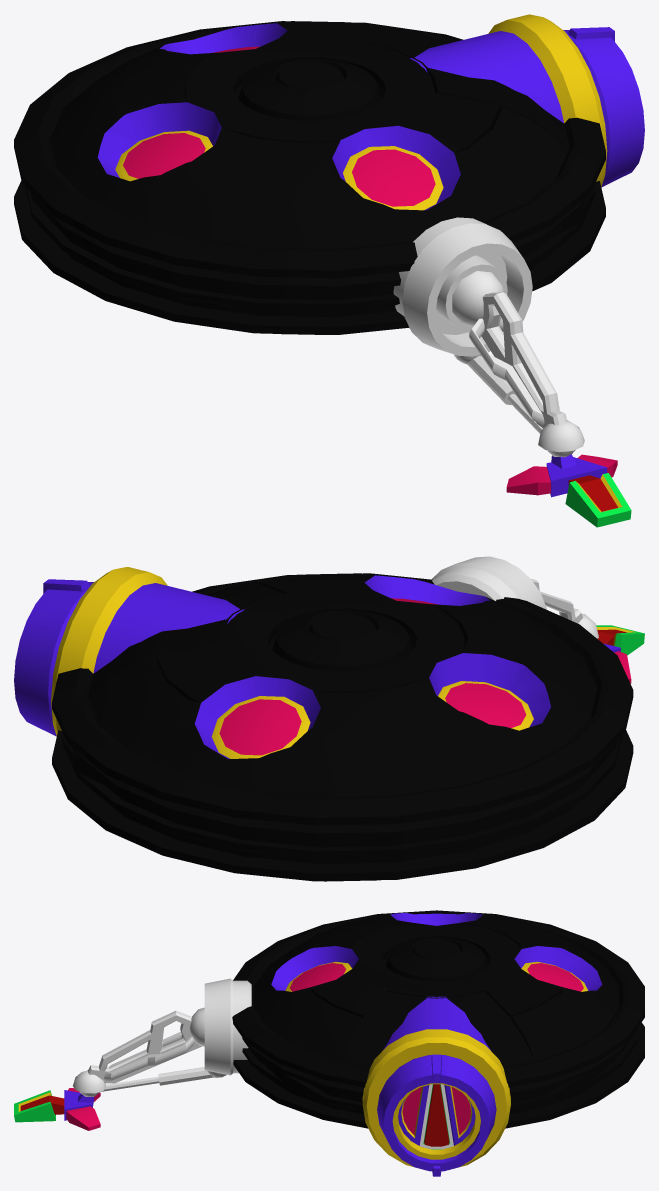
Rendered from Farm_Ship.FBX.
3 renders of one model, top to bottom at view 1: azimuth 30°, elevation 25°; view 2: azimuth 150°, elevation 25°; view 3: azimuth 270°, elevation 25°, orthographic. The views are drawn at different scales.
Parts seen in each view (by area): view 1: Cylinder001, Cylinder002, Box001, Line001, GeoSphere001, Line002, Damper001, GeoSphere003; view 2: Cylinder001, Cylinder002, Box001, Line001; view 3: Cylinder001, door, Cylinder002, Line001, Box001, Line002, Damper001, GeoSphere003, GeoSphere001.
Part boxes in pixels (x1,y1,x2,y2): Cylinder001: (14, 14, 644, 334); Cylinder002: (393, 217, 532, 356); Box001: (506, 454, 631, 527); Line001: (481, 292, 567, 428); GeoSphere001: (452, 271, 504, 325); Line002: (469, 317, 559, 424); Damper001: (467, 356, 542, 433); GeoSphere003: (538, 420, 584, 452); Cylinder001: (14, 567, 633, 881); Cylinder002: (431, 556, 546, 609); Box001: (596, 625, 644, 683); Line001: (531, 579, 582, 623); Cylinder001: (232, 910, 644, 1176); door: (398, 1084, 475, 1149); Cylinder002: (204, 978, 251, 1075); Line001: (88, 1010, 201, 1083); Box001: (14, 1088, 100, 1130); Line002: (104, 1031, 195, 1080); Damper001: (101, 1067, 213, 1091); GeoSphere003: (73, 1070, 105, 1093); GeoSphere001: (189, 1007, 204, 1046).
Bounding box in the file's own units: 177 × 70.48 × 244.
